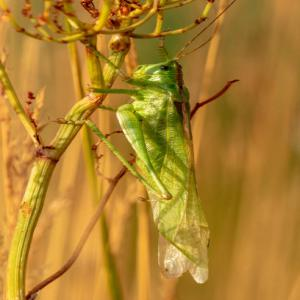locust: (72, 14, 236, 294)
